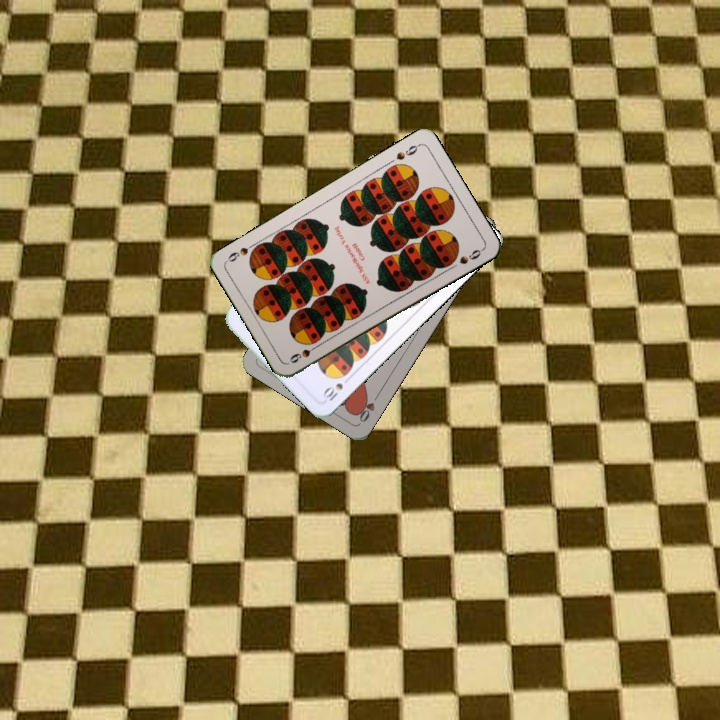HO: (353, 389, 382, 425)
S10: (319, 372, 354, 405)
S9: (285, 340, 323, 366), (392, 140, 422, 163)
